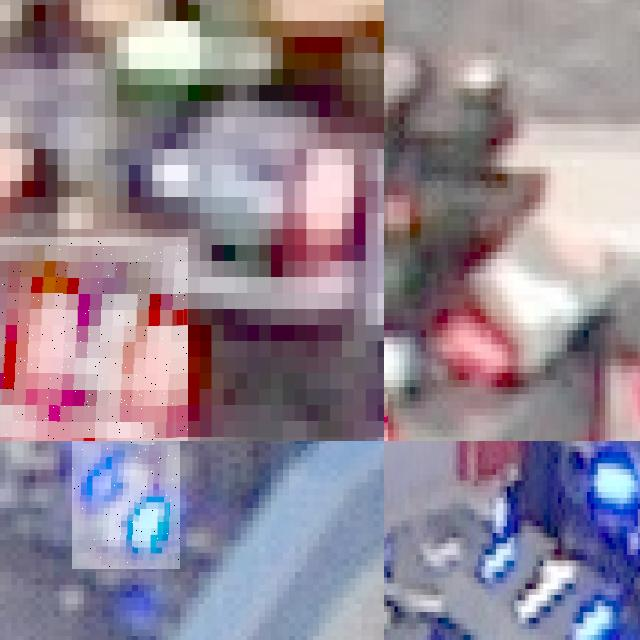B1: (478, 520, 616, 640)
B2: (71, 441, 180, 569)
R4: (0, 237, 187, 441), (567, 351, 640, 441)
